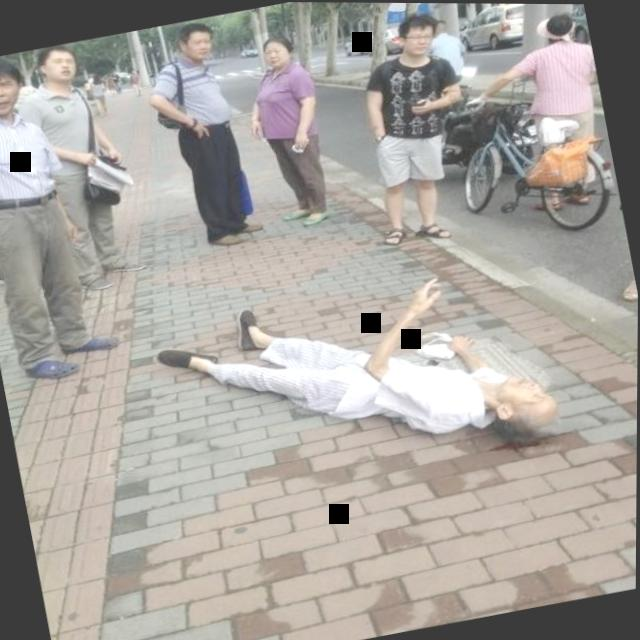Fall-Detected: (130, 233, 591, 519)
